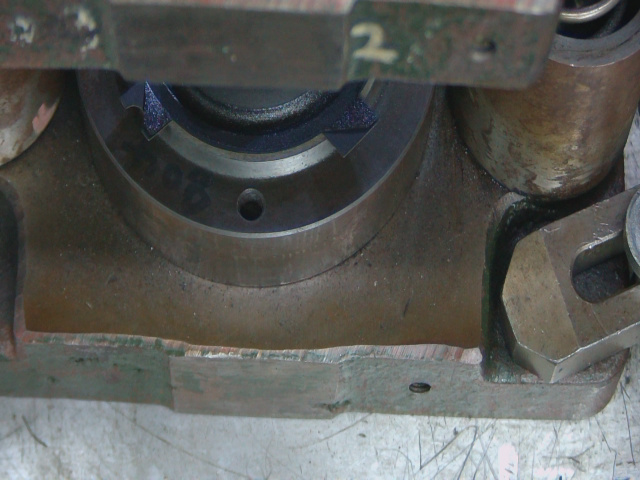OK: (119, 88, 183, 149)
